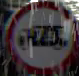Heavy Vehicles: (5, 0, 78, 70)
